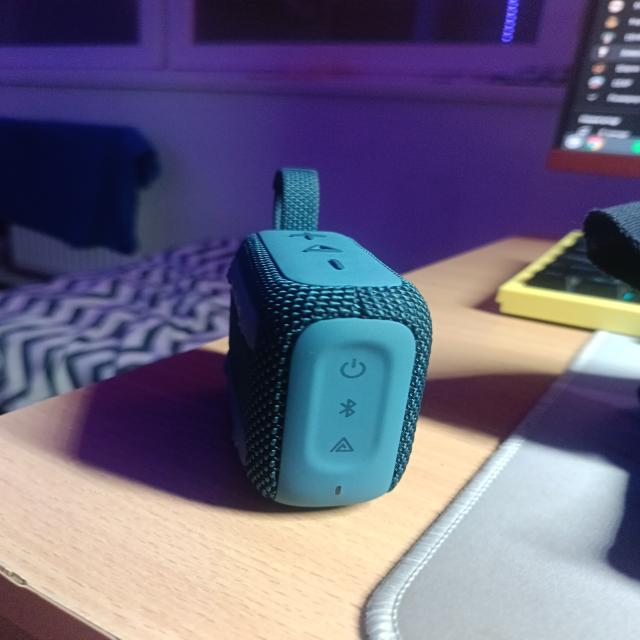column JBL: (226, 168, 432, 507)
tie fighter: (275, 288, 281, 293)
